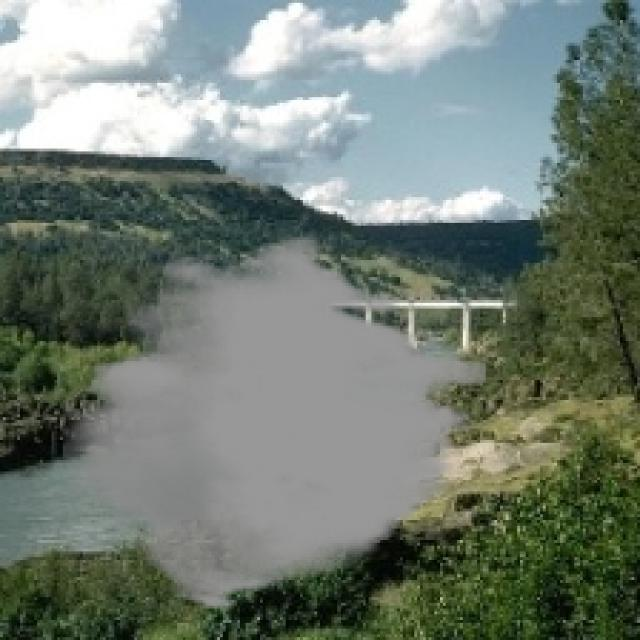smoke: (63, 234, 486, 612)
